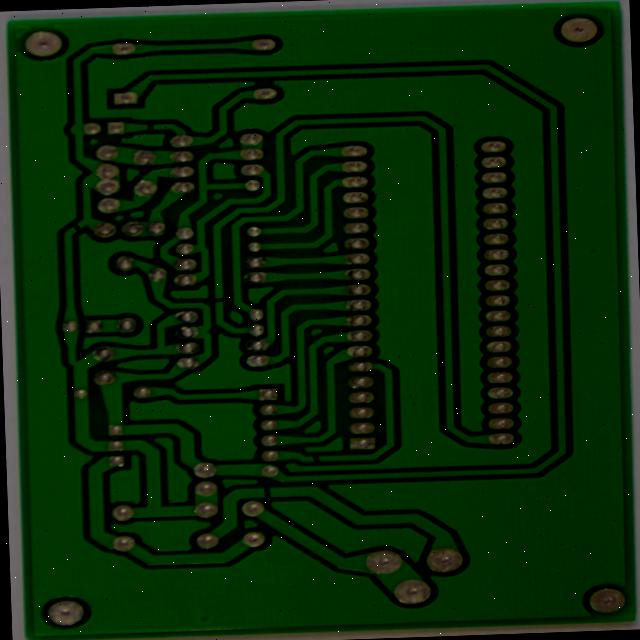open_circuit: (289, 474, 310, 493), (74, 197, 96, 215), (343, 441, 365, 455), (158, 90, 178, 105), (233, 273, 252, 288)
